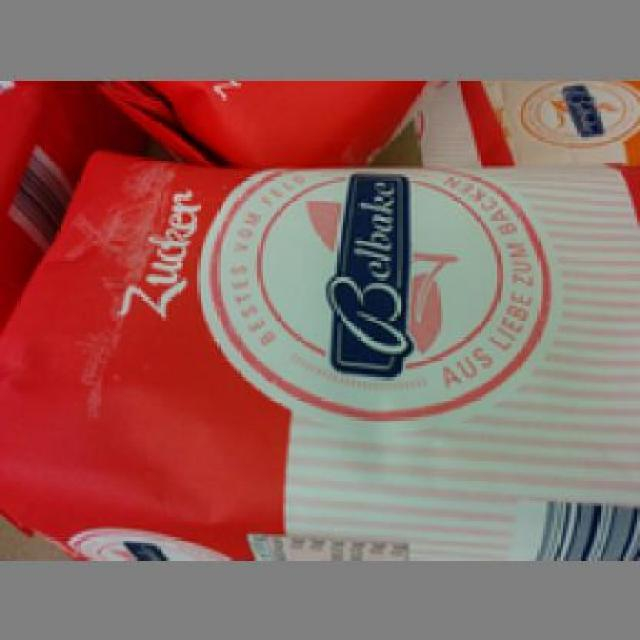Flour: (0, 146, 637, 560)
